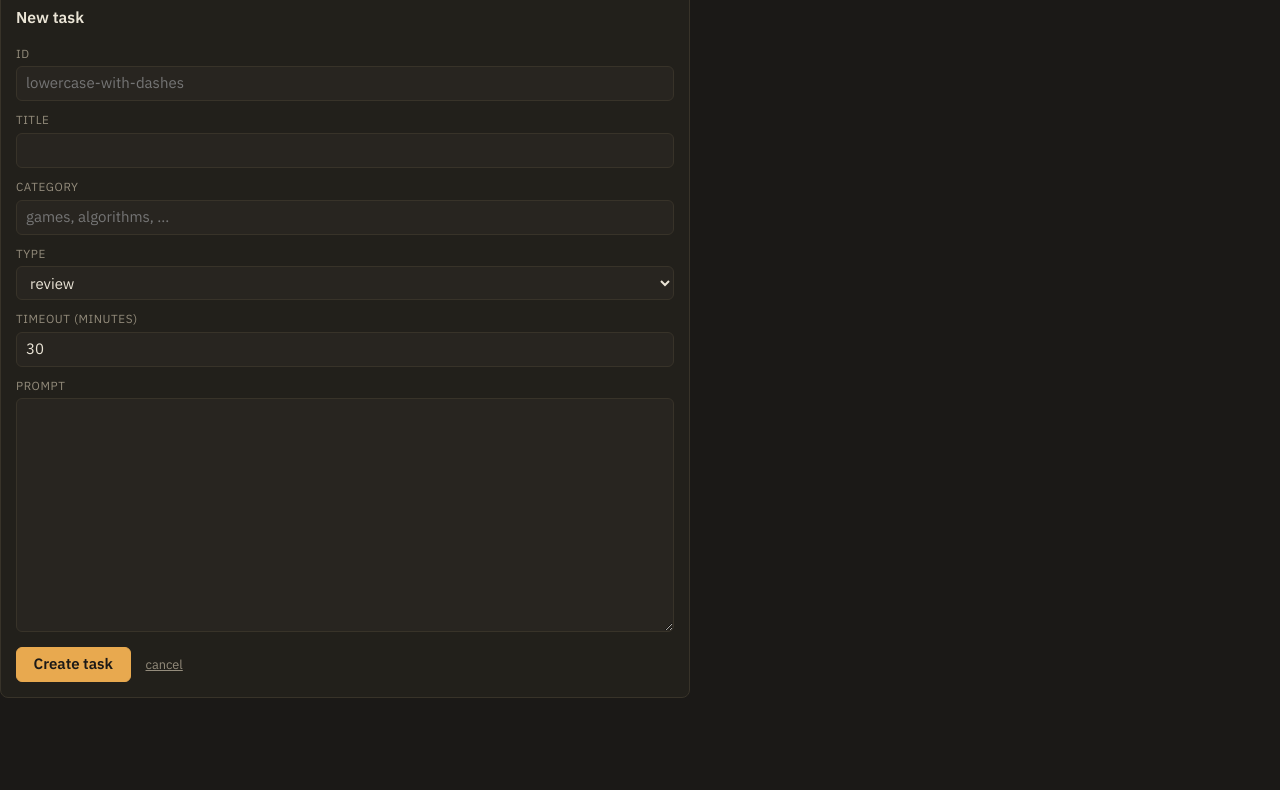
Test: shows the check field only for check tasks
expect the field labelled "Check script" is not shown: met
Select "check" in the dropdown labelled "Type" at (345, 283), box 16,266 -> 674,300
(page scrolled)
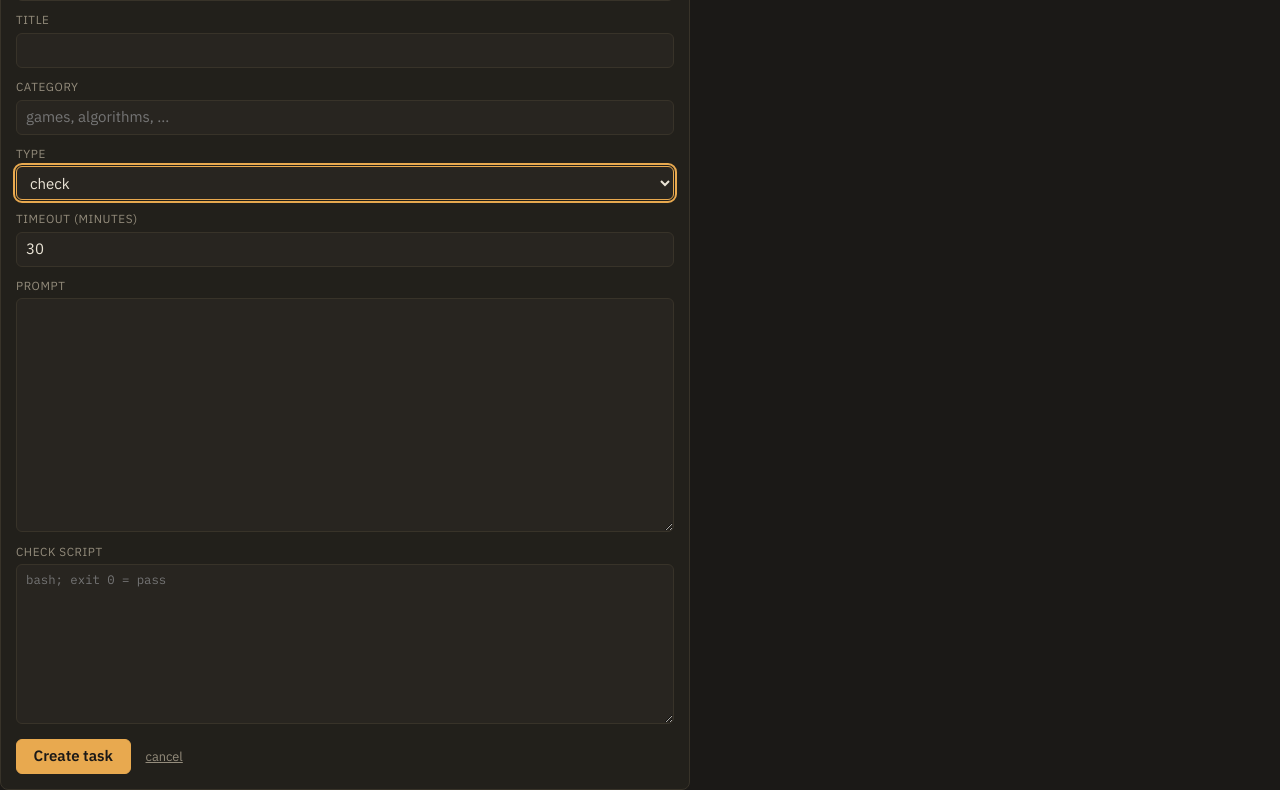
expect the text box labelled "Check script" is shown: met, box 16,564 -> 674,724
